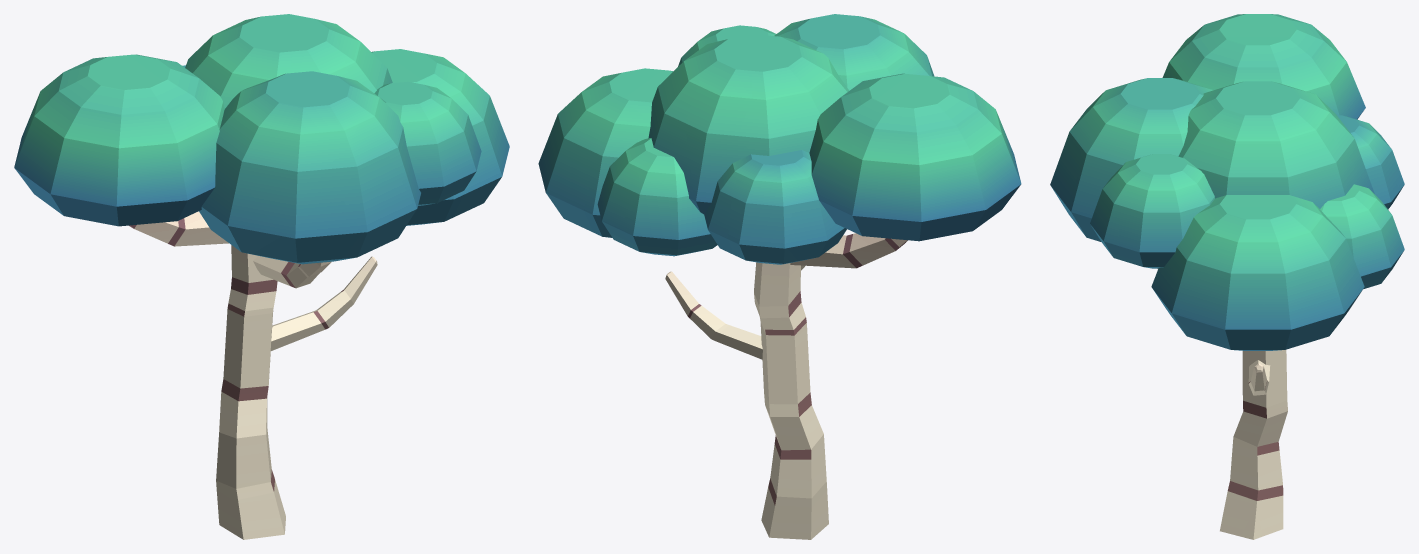
The model's file is pretty_big_tree_1.gltf.
3 views of the same model, side by side, from view 1: azimuth 30°, elevation 25°; view 2: azimuth 150°, elevation 25°; view 3: azimuth 270°, elevation 25° (orthographic). The views are drawn at different scales.
Parts seen in each view (by area): view 1: Object_11; view 2: Object_11; view 3: Object_11.
Part boxes in pixels (x1,y1,x2,y2): Object_11: (14, 14, 509, 539); Object_11: (538, 14, 1021, 539); Object_11: (1050, 14, 1404, 539).
Bounding box in the file's own units: 15.11 × 15.11 × 10.99.
1 material, 1 textured.
